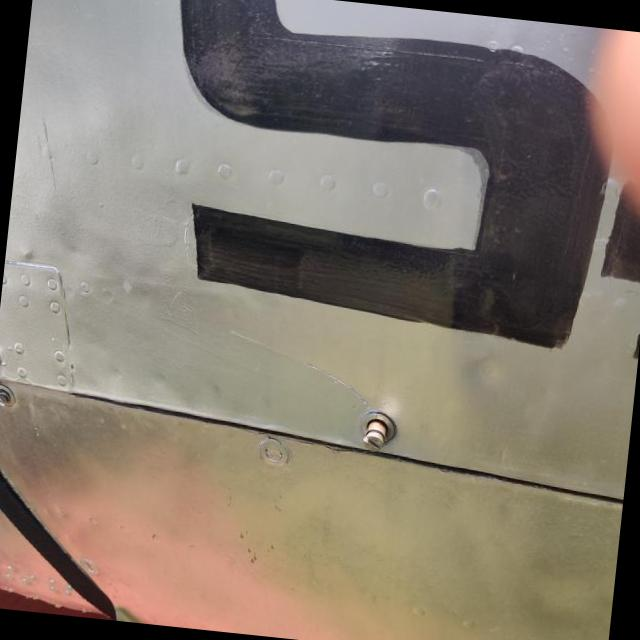Scratch: (227, 326, 376, 414)
